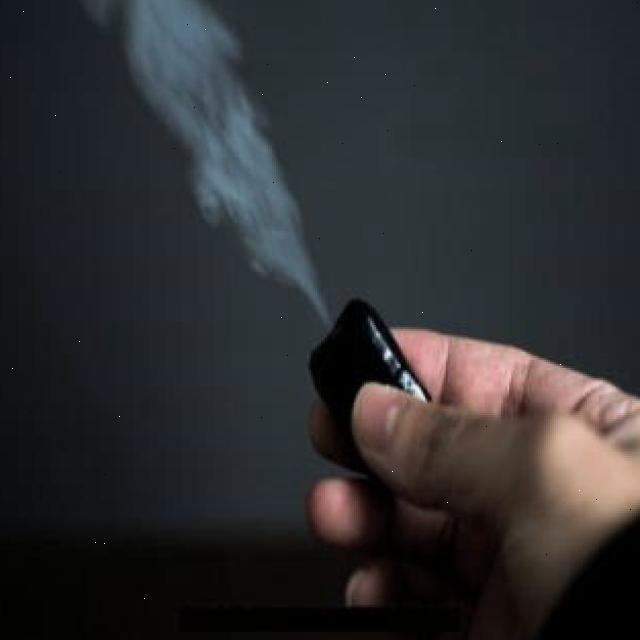smoke: (125, 0, 348, 327)
